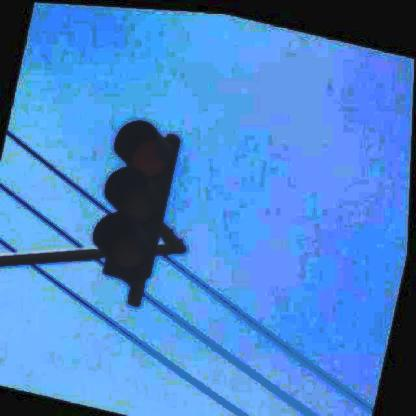Traffic Light -Red-: (86, 113, 184, 284)
